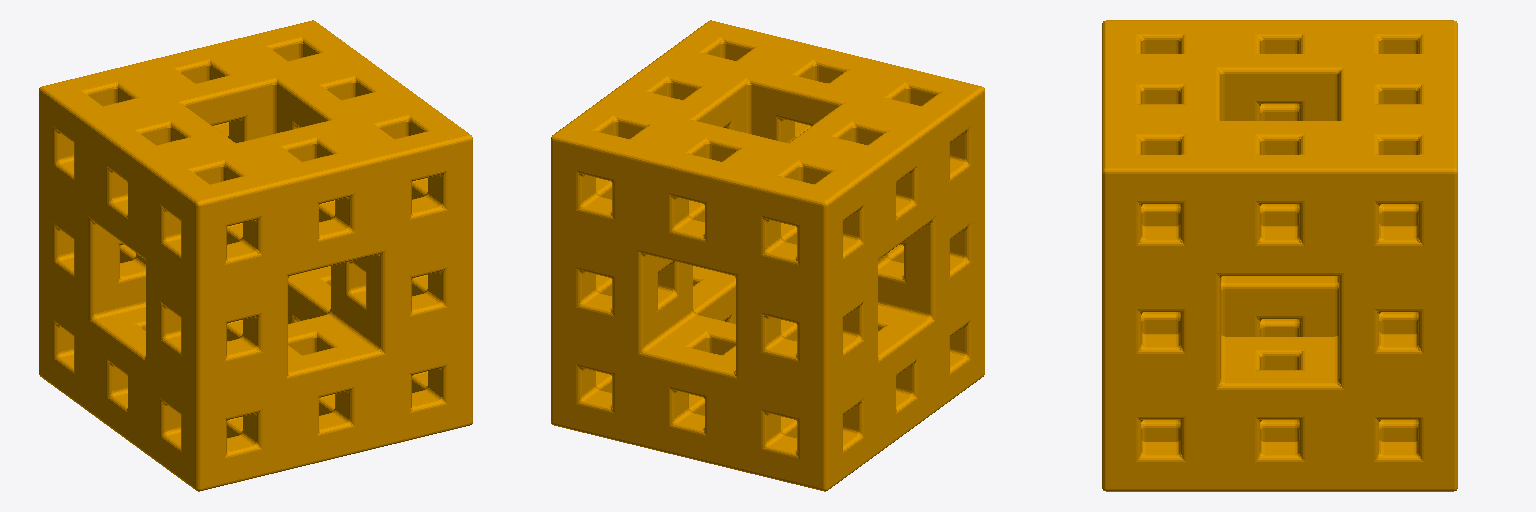
robot.urdf — sponge:

<robot name="sponge">
    <link name="base">
        <inertial>
            <origin xyz="-0.0 0.0 0.0" />
            <mass value="0.5476" />
            <inertia ixx="0.1092" ixy="-0.0" 
                     ixz="-0.0" iyy="0.1092" 
                     iyz="-0.0" izz="0.1092" />
        </inertial>
        <visual>
            <origin xyz="0 0 0" />
            <geometry>
                <mesh filename="visual_geometry.obj" />
            </geometry>
        </visual>
        <collision>
            <origin xyz="0 0 0" />
            <geometry>
                <mesh filename="collision_geometry.obj" />
            </geometry>
        </collision>
    </link>
</robot>

--- Render facts (derived) ---
3 views of the same robot in one strip: view 1: azimuth 30°, elevation 25°; view 2: azimuth 150°, elevation 25°; view 3: azimuth 270°, elevation 25° (orthographic).
Model sponge with 1 links and 0 joints (none), rooted at base, posed all joints at 0.
Links seen in each view (by area): view 1: base; view 2: base; view 3: base.
Link boxes in pixels (box(x1,y1,x2,y2)): base: box(39, 20, 472, 491); base: box(551, 20, 984, 491); base: box(1102, 20, 1457, 491).
Bounding box of the posed robot: 1 × 1 × 1 m (x, y, z).
Meshes: 1 distinct files referenced, 1 mesh visuals loaded (1 OBJ).